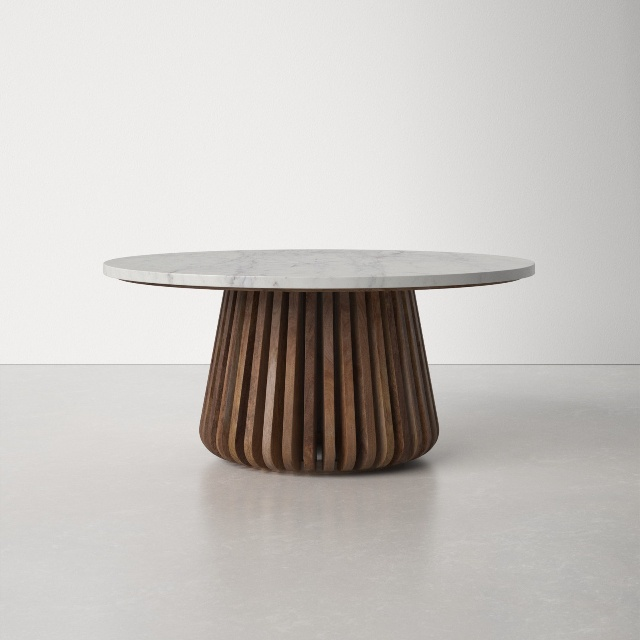obstacle: (104, 250, 534, 472)
